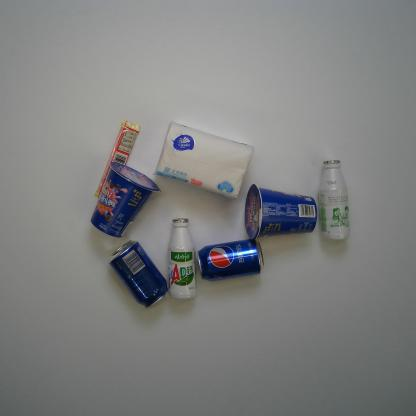Chocolate: (94, 120, 142, 199)
Dessert: (89, 161, 162, 238), (244, 183, 318, 241)
Drink: (108, 240, 169, 308), (197, 238, 264, 282)
Milk: (318, 160, 350, 241), (166, 218, 197, 300)
Tissue: (151, 121, 255, 200)
